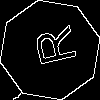R: (25, 25, 77, 70)
